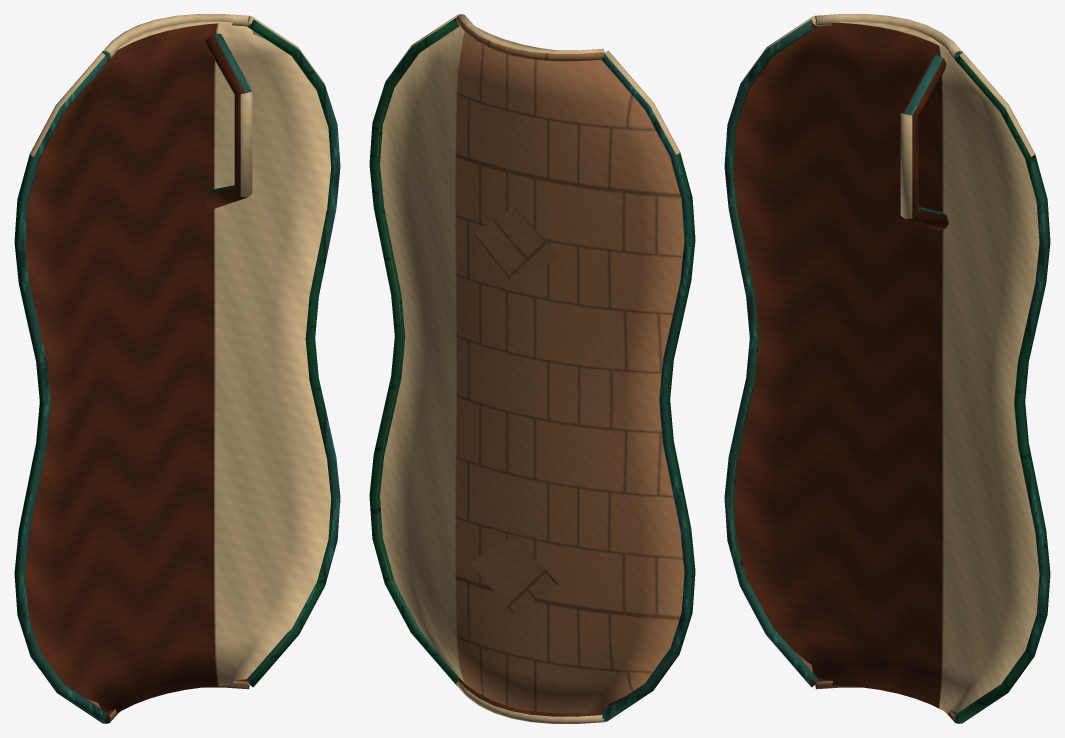
The picture shows the model from 3 angles, left to right: view 1: azimuth 30°, elevation 25°; view 2: azimuth 150°, elevation 25°; view 3: azimuth 330°, elevation 25°; orthographic projection.
Visible parts, largest first — view 1: tuareg_agher_refined; view 2: tuareg_agher_refined; view 3: tuareg_agher_refined.
Part boxes in pixels (box(x1,y1,x2,y2)): tuareg_agher_refined: box(14, 14, 340, 723); tuareg_agher_refined: box(369, 14, 695, 723); tuareg_agher_refined: box(724, 14, 1050, 723).
Size of the model in its own units: 58.99 by 117 by 15.18.
